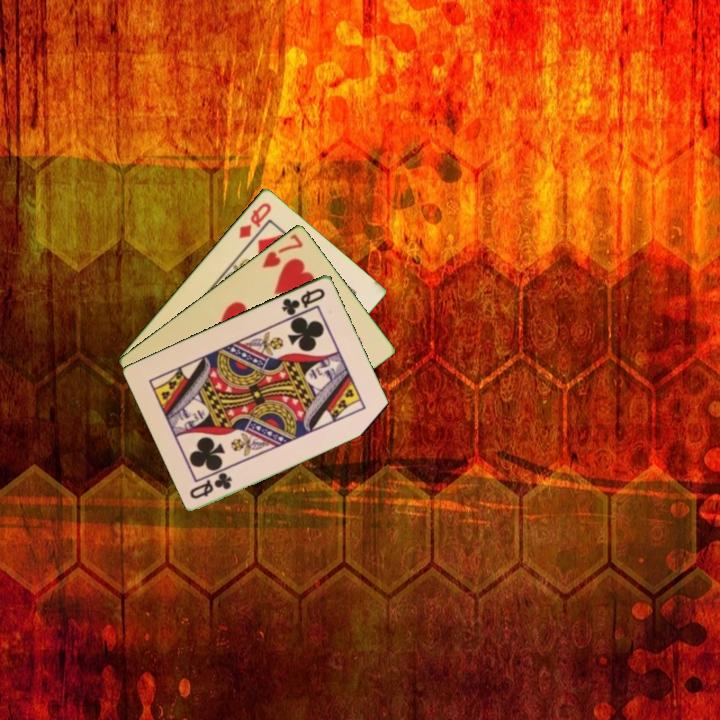7h: (258, 230, 306, 271)
Qc: (278, 284, 328, 318), (186, 469, 235, 501)
Qd: (235, 199, 274, 241)
